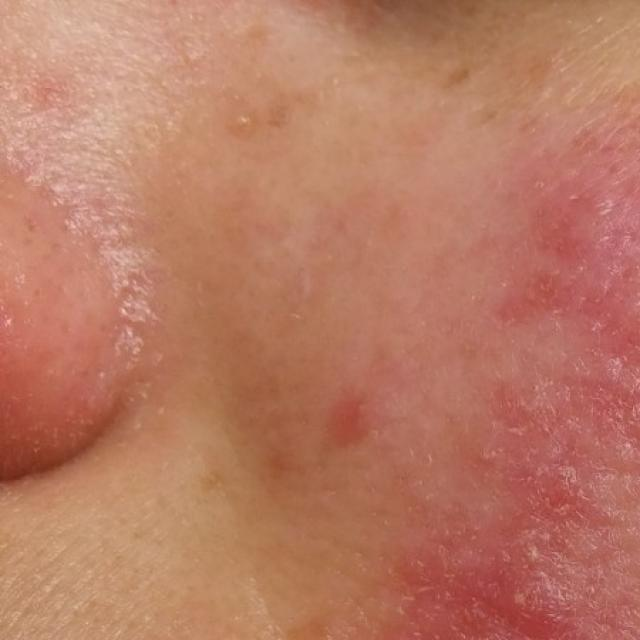Rosacea: (334, 125, 640, 639)
